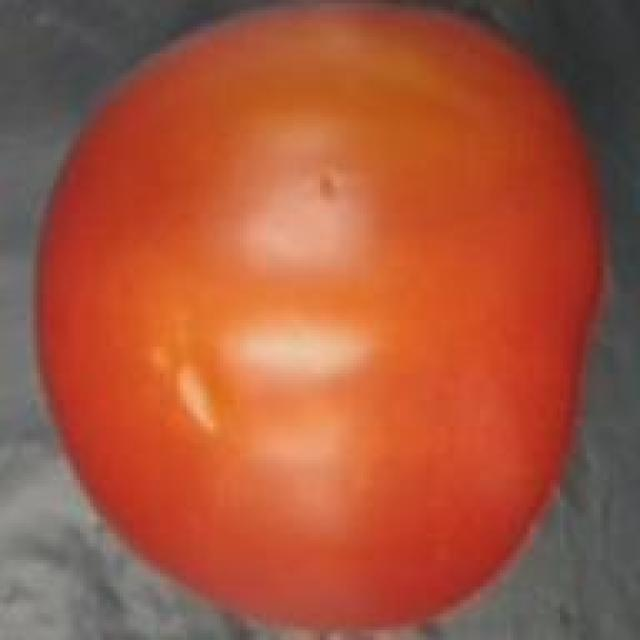ripe tomato: (27, 0, 613, 640)
